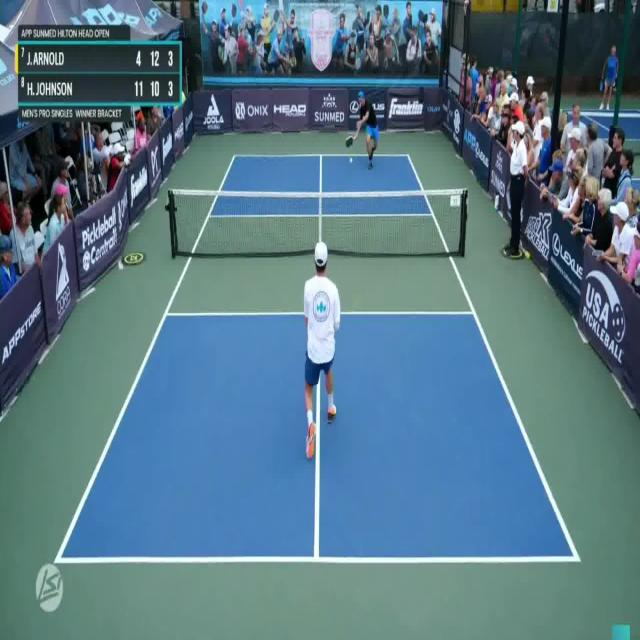Court: (53, 155, 579, 563)
ball: (346, 158, 356, 166)
